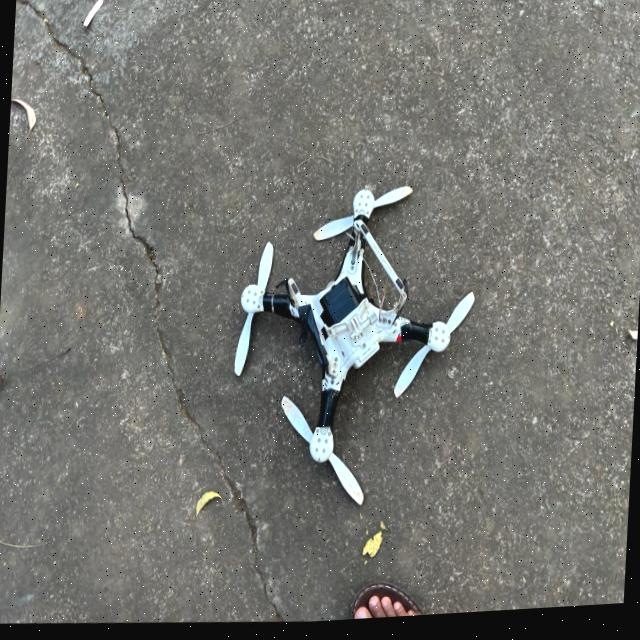drone: (114, 109, 566, 553)
